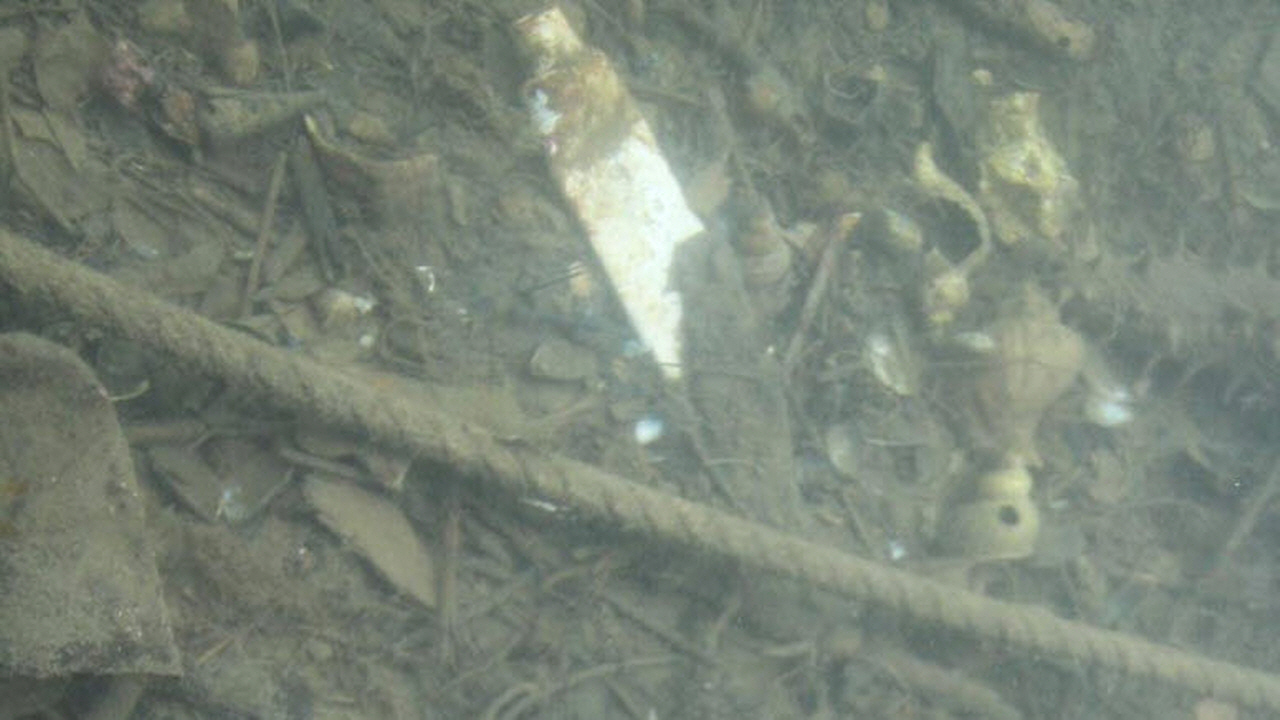rope: (0, 229, 1280, 711)
